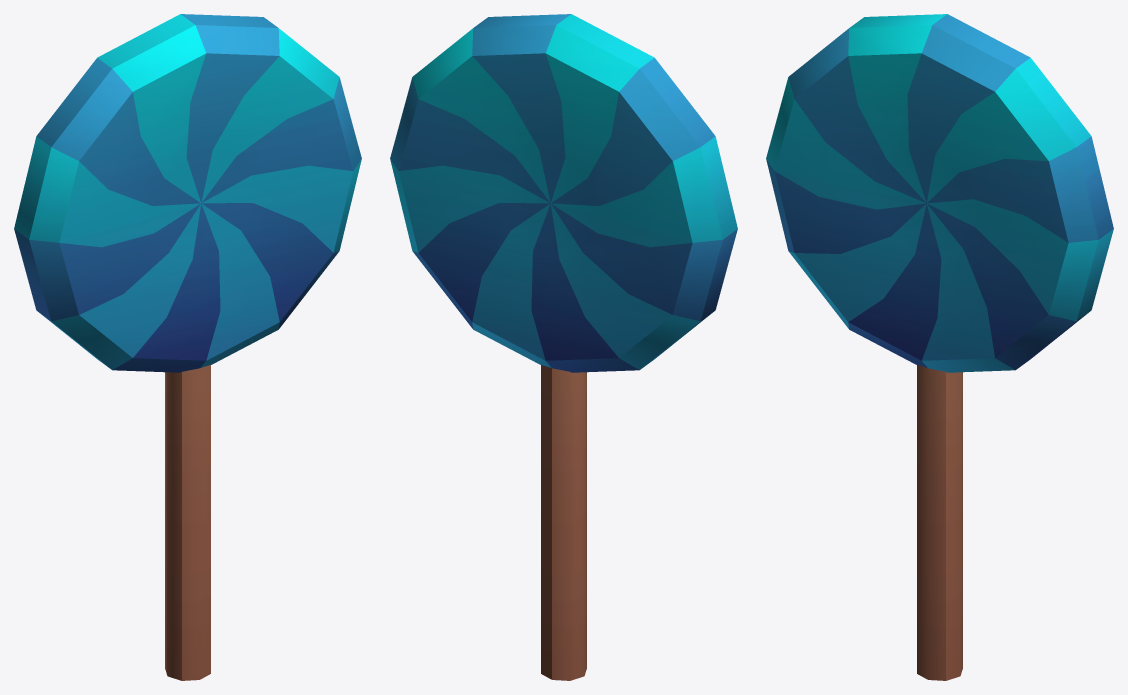
Rendered from lollipop_blue.glb.
3 renders of one model, left to right at view 1: azimuth 30°, elevation 25°; view 2: azimuth 150°, elevation 25°; view 3: azimuth 330°, elevation 25°, orthographic.
Visible parts, largest first — view 1: lollipop_blue; view 2: lollipop_blue; view 3: lollipop_blue.
Part boxes in pixels (x1,y1,x2,y2): lollipop_blue: [14, 14, 361, 680]; lollipop_blue: [390, 14, 737, 680]; lollipop_blue: [766, 14, 1113, 680].
Size of the model in its own units: 0.65 by 1.23 by 0.1239.
Materials: 1 (1 with a texture image).
